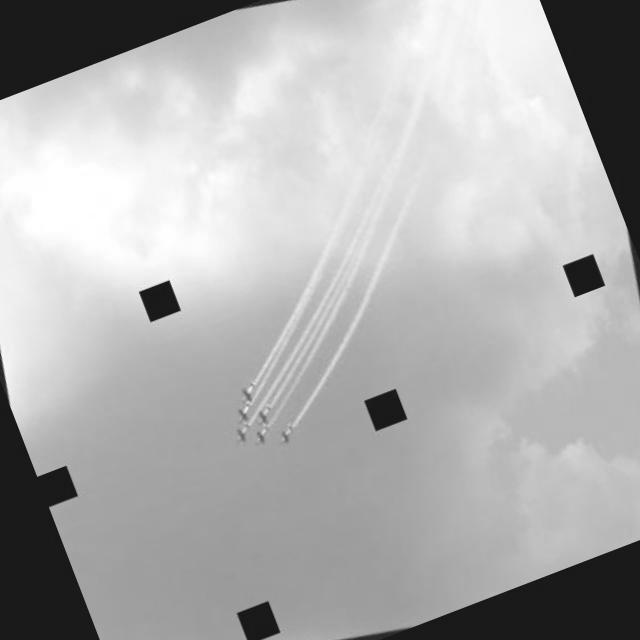aeroplane: (237, 382, 258, 405), (234, 404, 253, 425), (233, 425, 251, 447), (254, 428, 273, 447), (254, 408, 272, 425), (281, 429, 296, 448)
